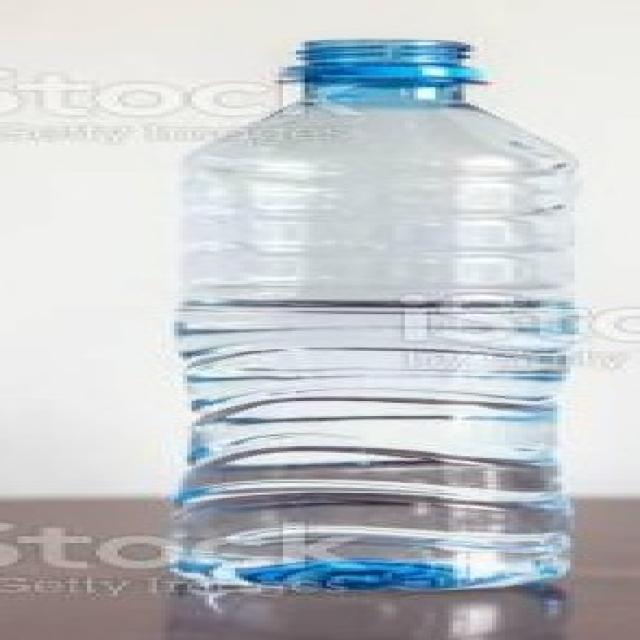medium: (174, 38, 575, 590)
